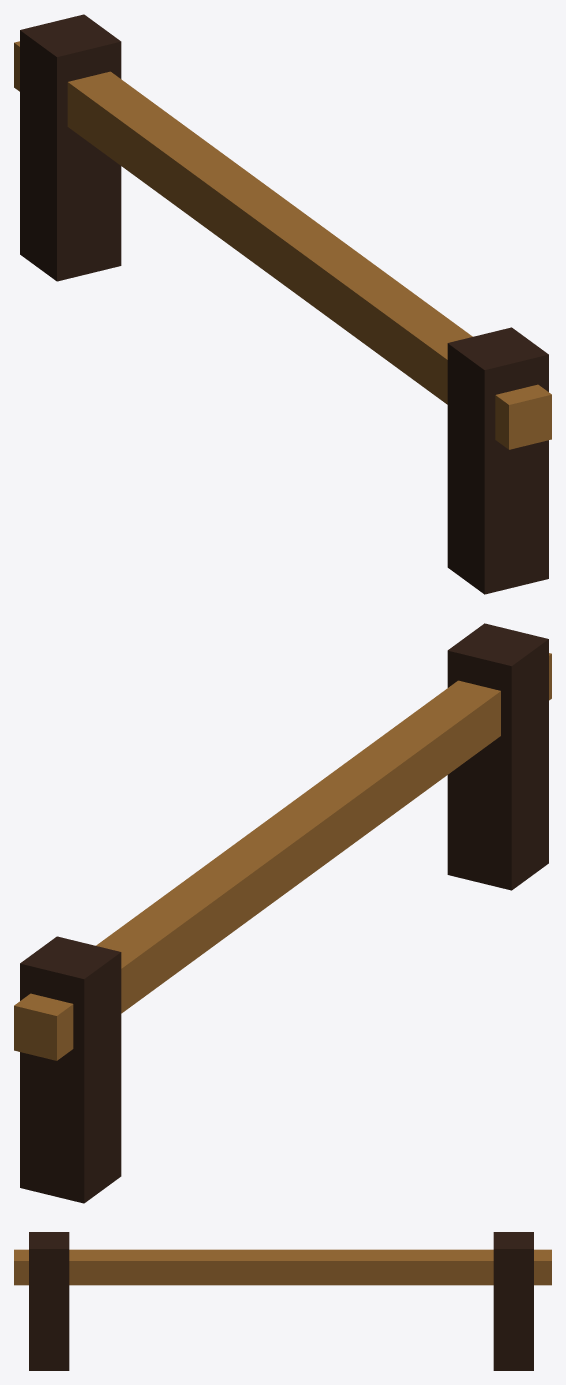
The model's file is zaun-einfach.fbx.
3 views of the same model, one above another, from view 1: azimuth 30°, elevation 25°; view 2: azimuth 150°, elevation 25°; view 3: azimuth 270°, elevation 25° (orthographic). The views are drawn at different scales.
Visible parts, largest first — view 1: latte, pfosten.001, pfosten; view 2: latte, pfosten, pfosten.001; view 3: latte, pfosten.001, pfosten.
Boxes of the visible parts, x1,y1,x2,y2 form: latte: (14,41,551,449); pfosten.001: (447,327,548,594); pfosten: (20,14,121,281); latte: (14,653,551,1060); pfosten: (20,936,121,1203); pfosten.001: (447,623,548,890); latte: (14,1249,551,1285); pfosten.001: (29,1232,69,1370); pfosten: (493,1232,533,1370).
Bounding box in the file's own units: 30 × 100 × 400.
